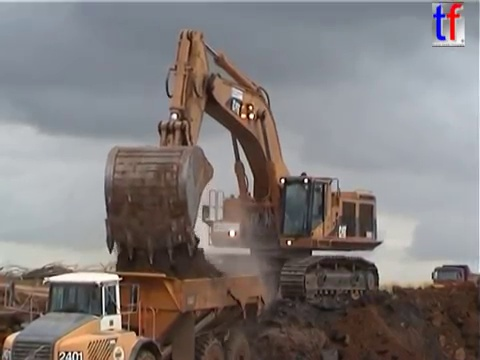excavator: (99, 26, 386, 313)
truck: (1, 267, 270, 360), (429, 263, 480, 300)
